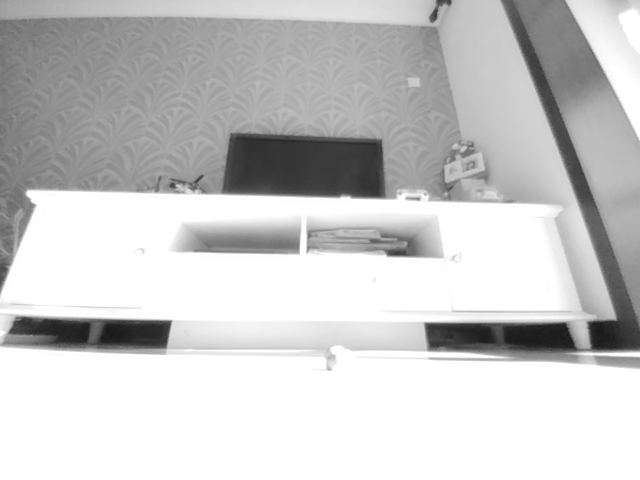pet feces: (325, 344, 354, 375)
